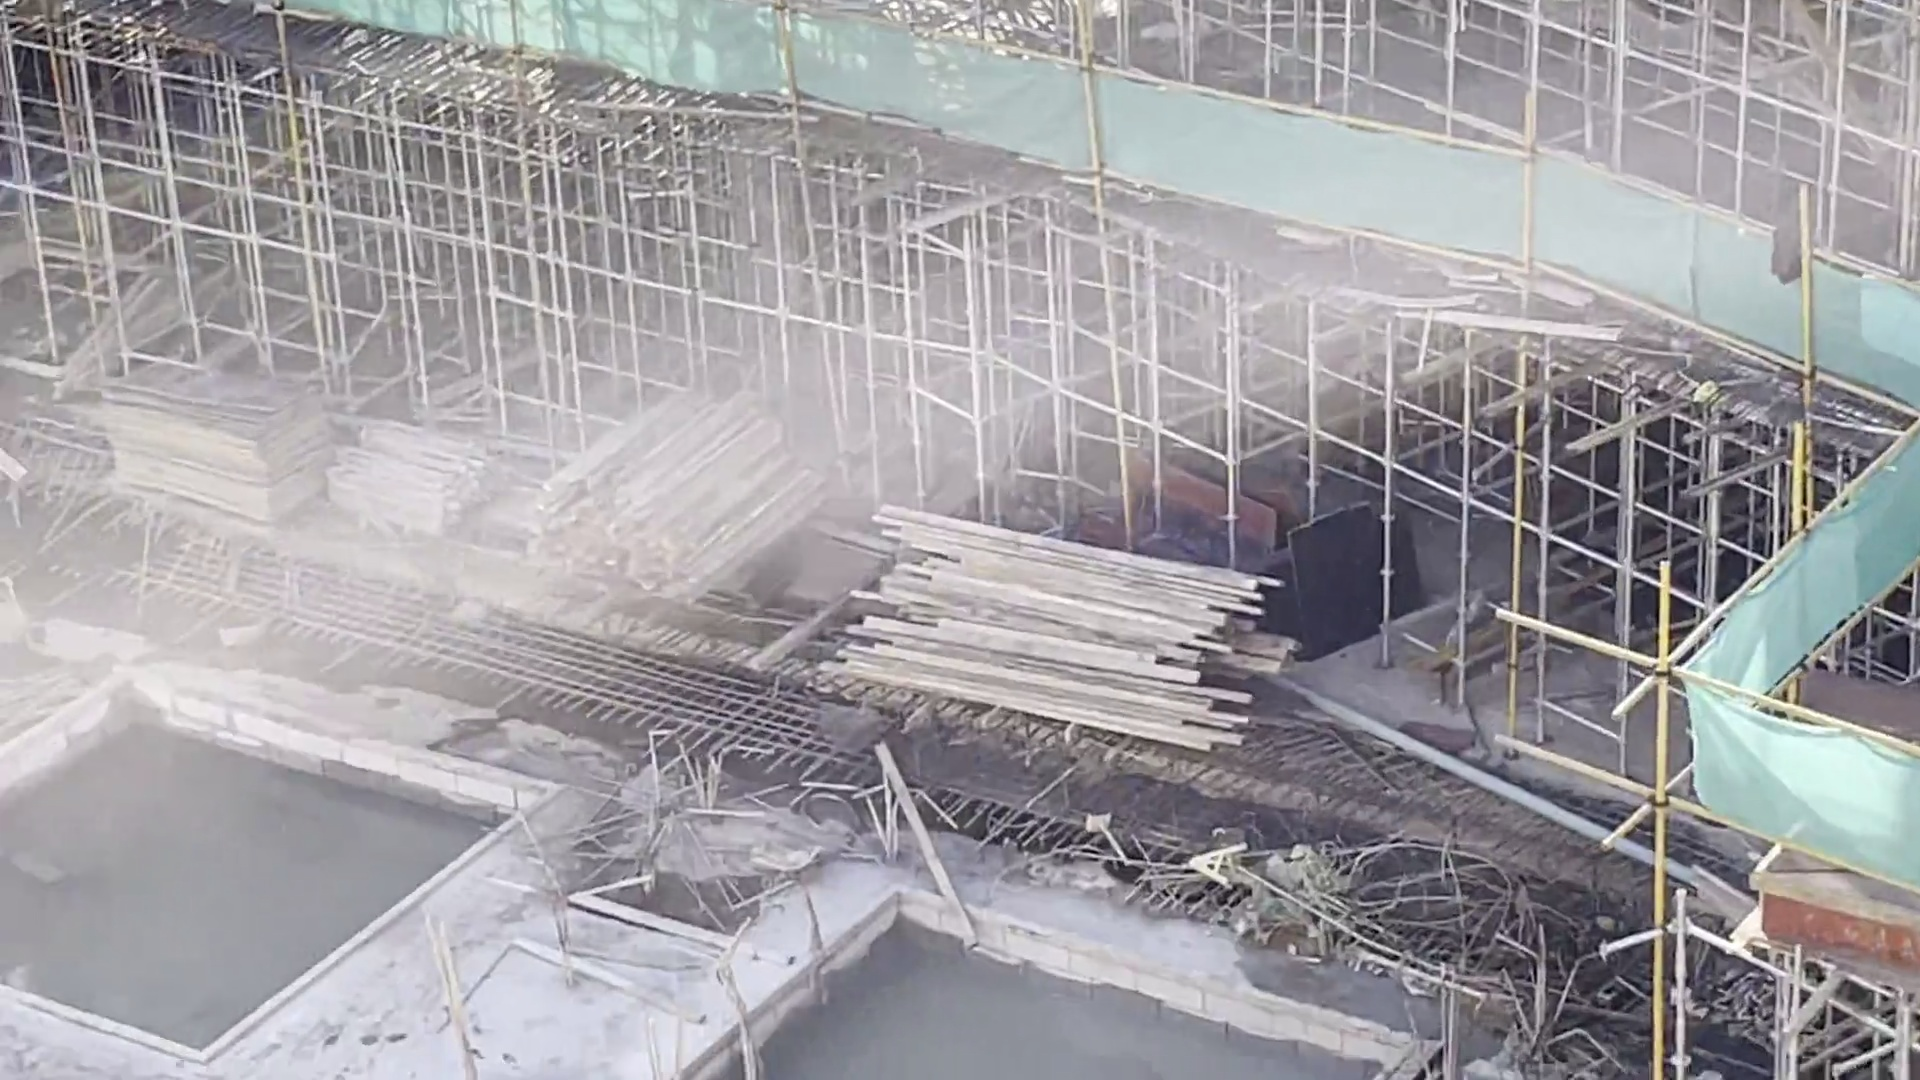board: (107, 360, 323, 527)
wood: (855, 497, 1302, 775), (547, 393, 814, 613), (328, 425, 491, 537)
